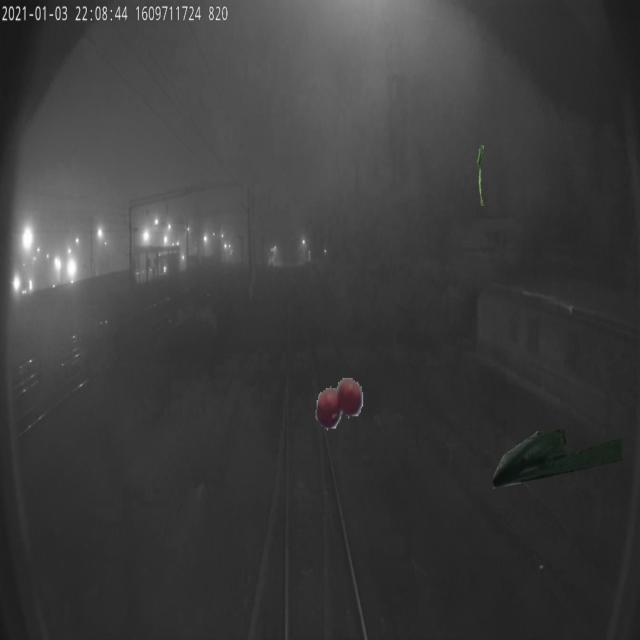balloon: (314, 368, 364, 432)
floating object: (493, 426, 623, 490), (477, 144, 484, 208)
